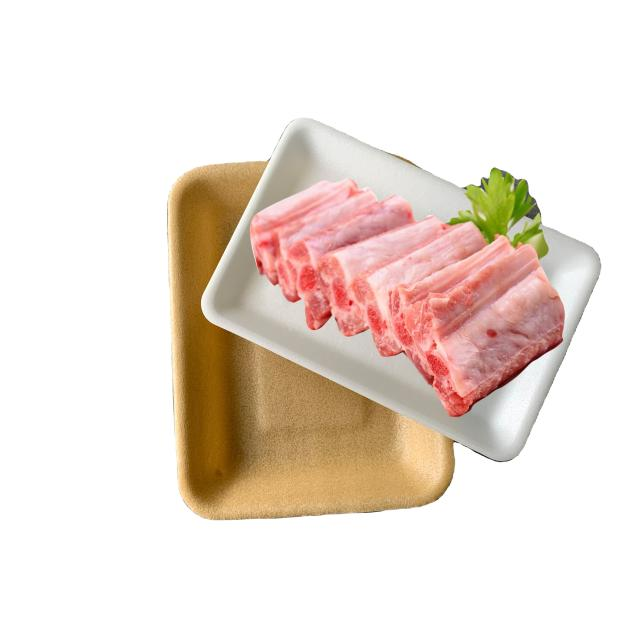pork: (229, 150, 592, 412)
